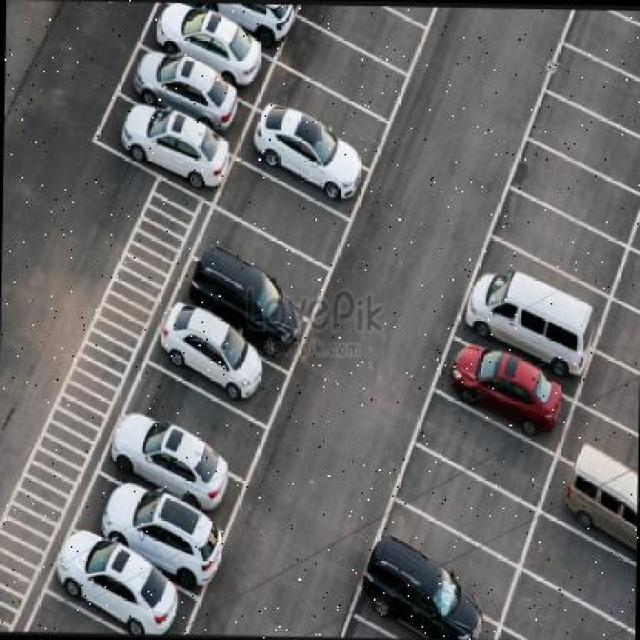Car: (467, 266, 573, 349), (354, 555, 451, 624), (255, 109, 344, 184), (449, 353, 547, 409), (76, 543, 161, 606), (143, 436, 220, 504), (140, 107, 209, 175), (127, 512, 209, 559), (215, 286, 298, 332), (158, 75, 239, 122), (174, 333, 260, 375), (561, 454, 618, 517), (184, 30, 260, 67), (229, 1, 278, 33)
Empty: (551, 529, 634, 595), (147, 395, 244, 449), (410, 533, 498, 584), (281, 83, 372, 129), (300, 43, 394, 86), (427, 490, 510, 538), (530, 595, 609, 640), (535, 221, 606, 270), (446, 443, 530, 481), (231, 232, 297, 279), (272, 193, 324, 252), (317, 12, 403, 46), (564, 78, 635, 116), (544, 173, 607, 209), (563, 130, 624, 161), (589, 20, 626, 69), (584, 415, 624, 439), (607, 377, 640, 406), (610, 330, 629, 341), (633, 271, 640, 280)
